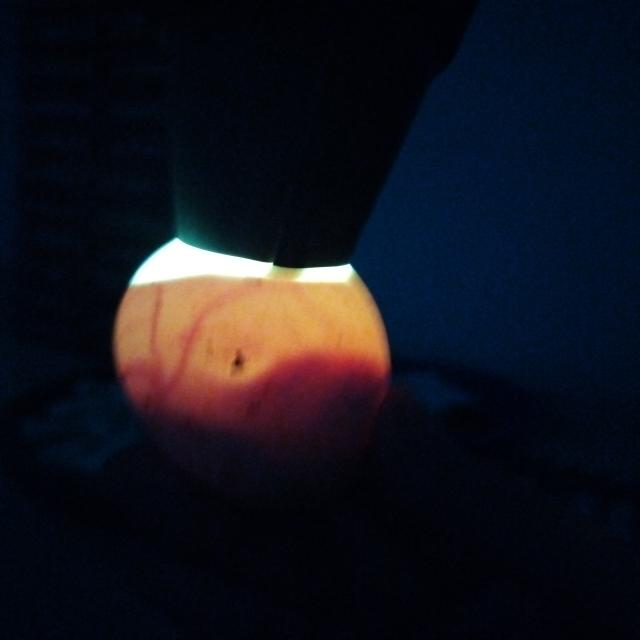Camara de Ar: (145, 280, 259, 412)
Embriao: (144, 355, 393, 506)
